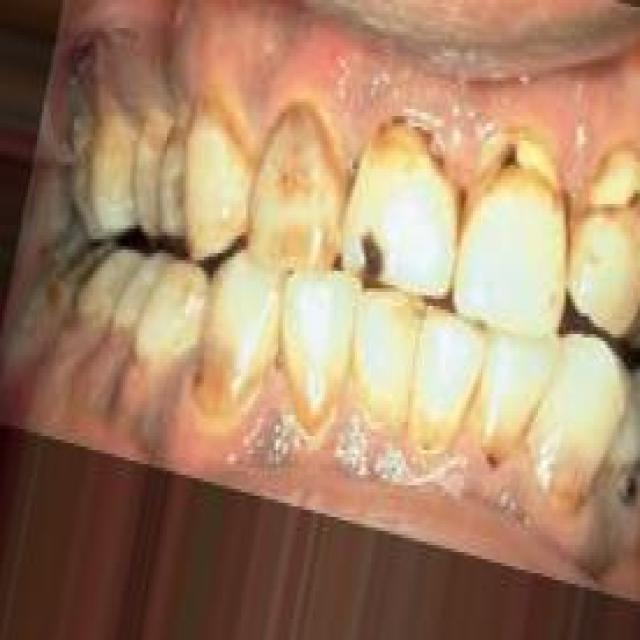caries: (475, 126, 568, 198), (583, 142, 640, 238), (378, 104, 445, 162), (348, 222, 392, 288)
